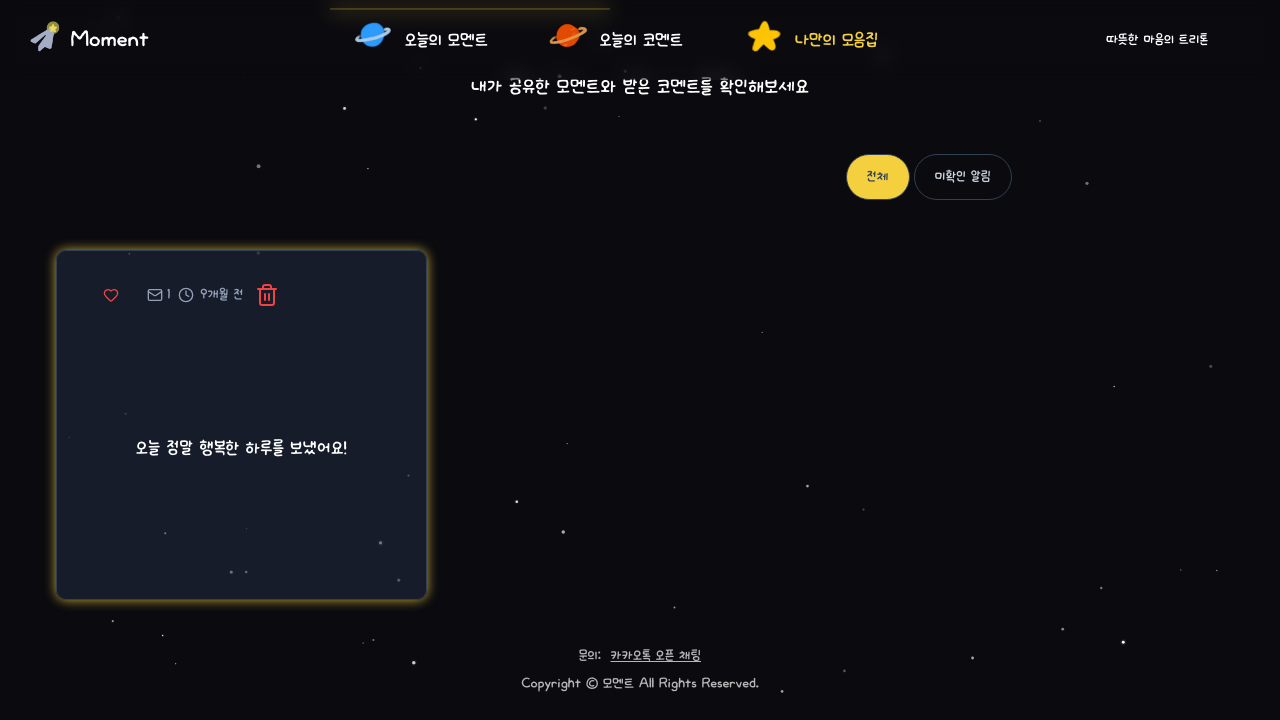
Scenario: 나의 모멘트 모음집 페이지 › 시나리오 2: 상세 동작 › 코멘트를 신고할 수 있다
The image size is (1280, 720).
(page scrolled)
Click the text "오늘 정말 행복한 하루를 보냈어요!". click: (242, 448)
box: left=136, top=437, right=347, bottom=459
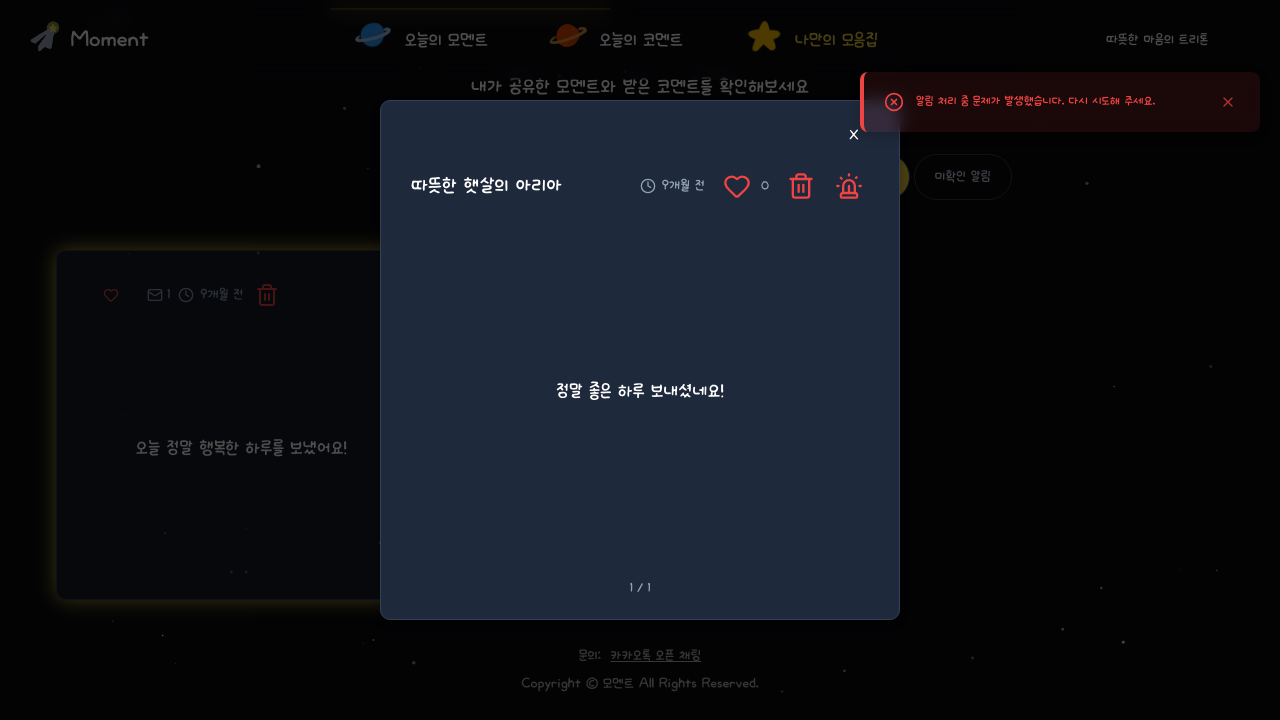
Note: 신고 버튼 클릭 (Siren 아이콘을 포함한 버튼)
Click the button named "코멘트 신고하기". click: (849, 186)
box: left=829, top=166, right=869, bottom=206
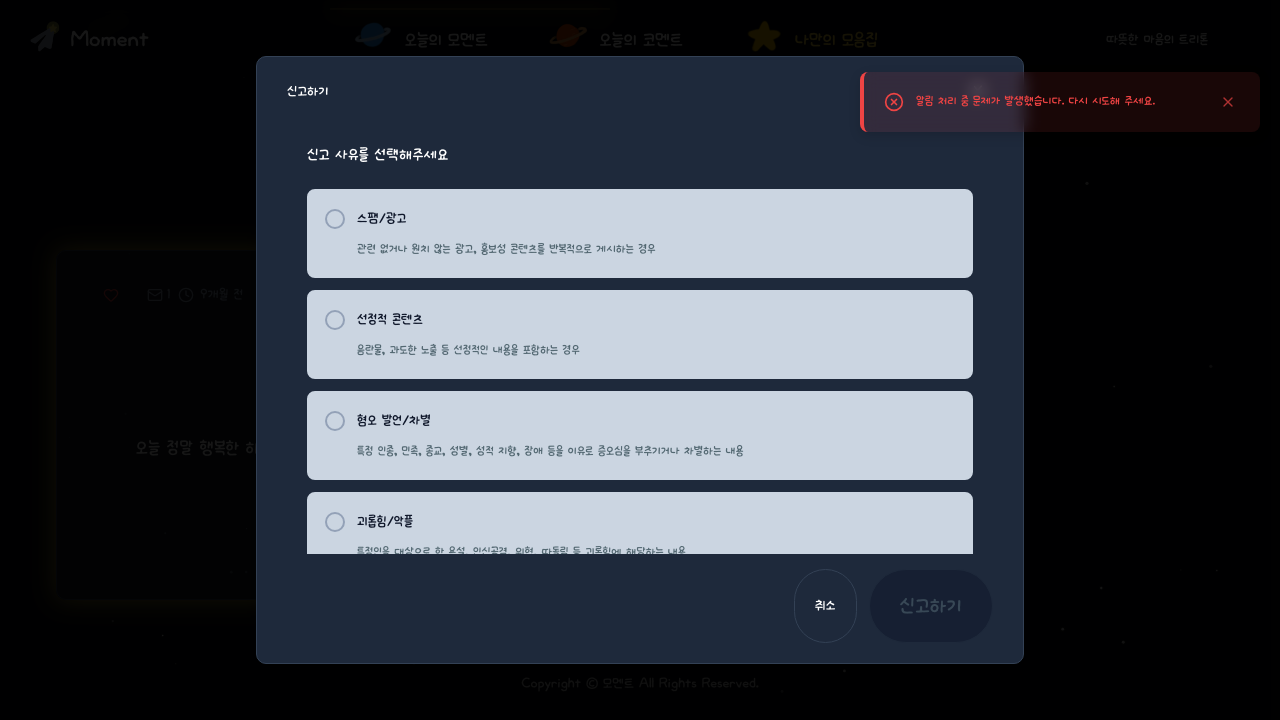
Click the text "스팸/광고". click: (382, 219)
box: left=357, top=207, right=407, bottom=231
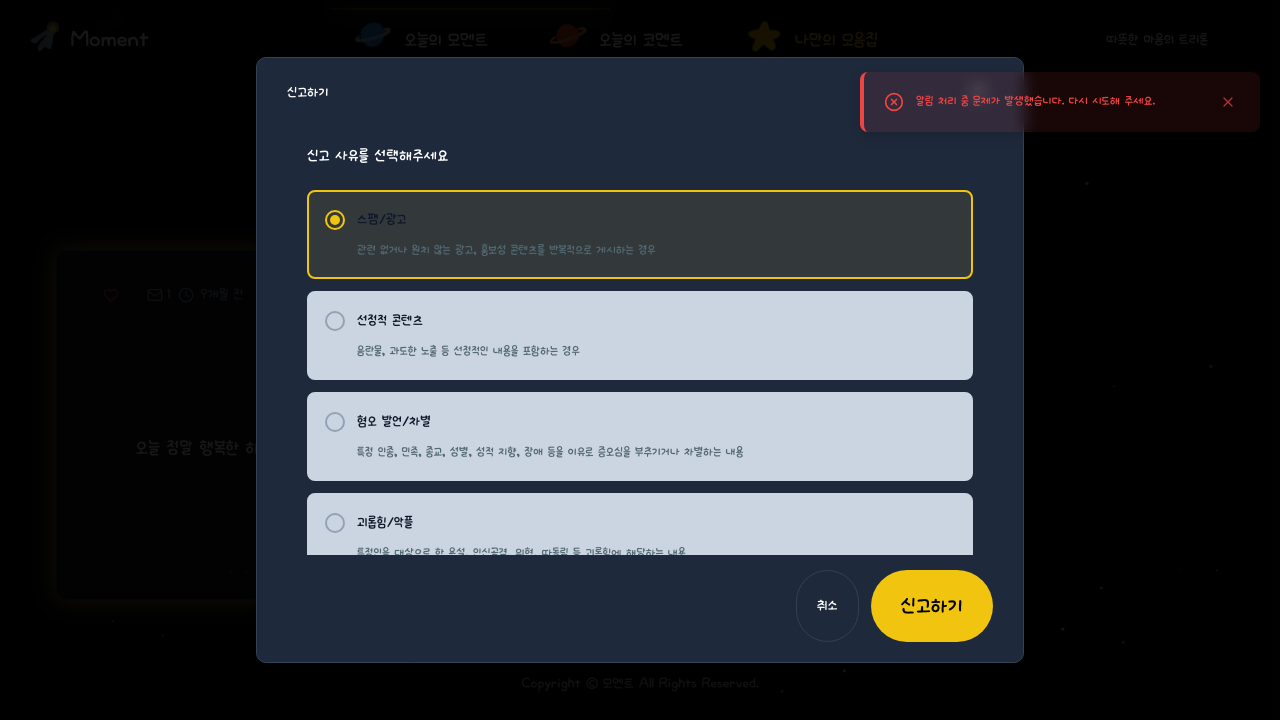
Click the button "신고하기". click: (932, 606)
box: left=871, top=570, right=993, bottom=642
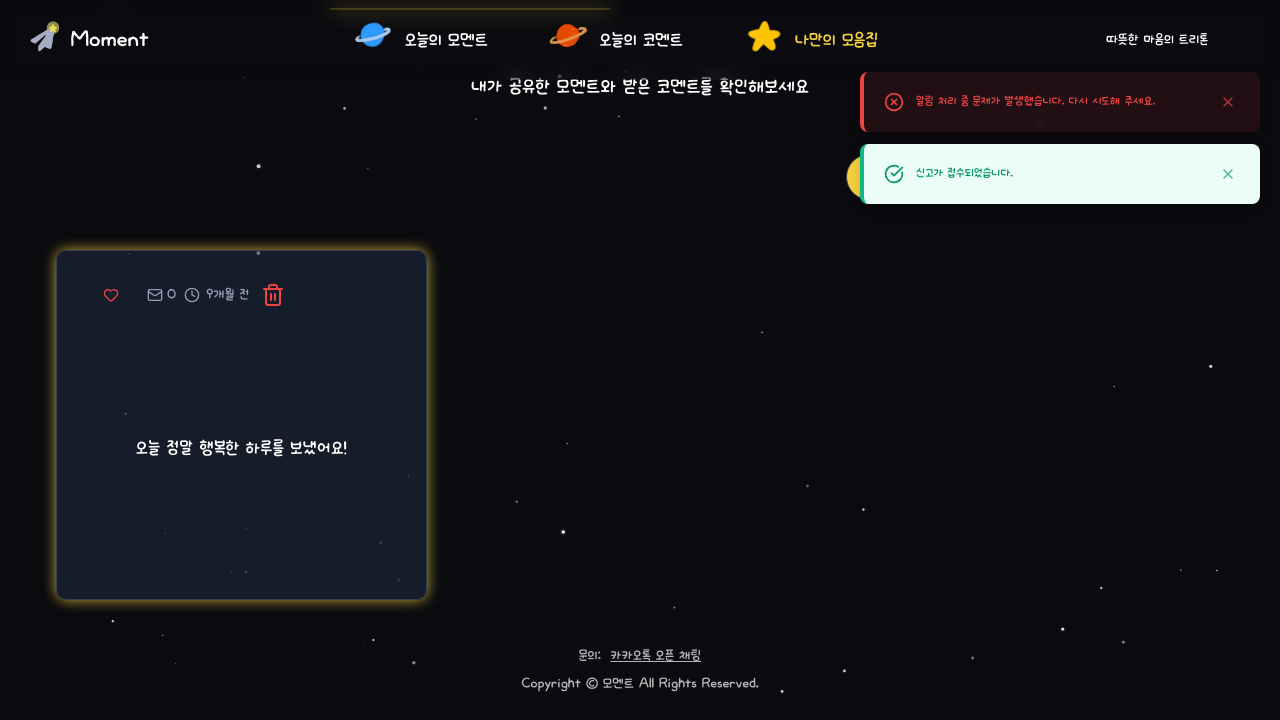
Now the text "신고가 접수되었습니다" is shown, box left=916, top=166, right=1013, bottom=180
